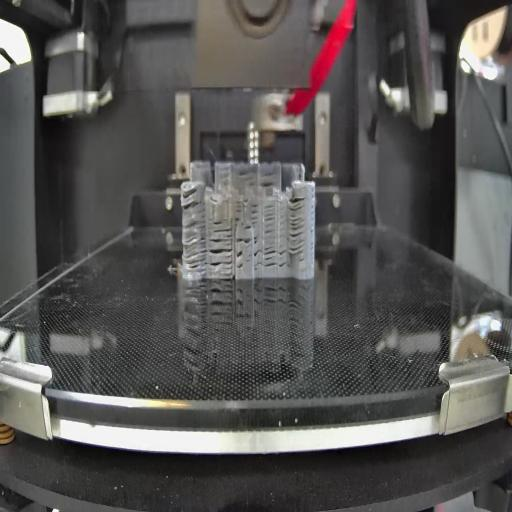cracks: (182, 219, 207, 273), (288, 196, 306, 255), (208, 238, 232, 274), (180, 186, 203, 210), (253, 250, 278, 272), (263, 206, 275, 238), (212, 220, 233, 236), (235, 167, 254, 183), (236, 234, 258, 246), (250, 203, 260, 226), (278, 249, 288, 272), (235, 251, 246, 270), (260, 179, 278, 188), (234, 201, 244, 214), (234, 216, 242, 222)
